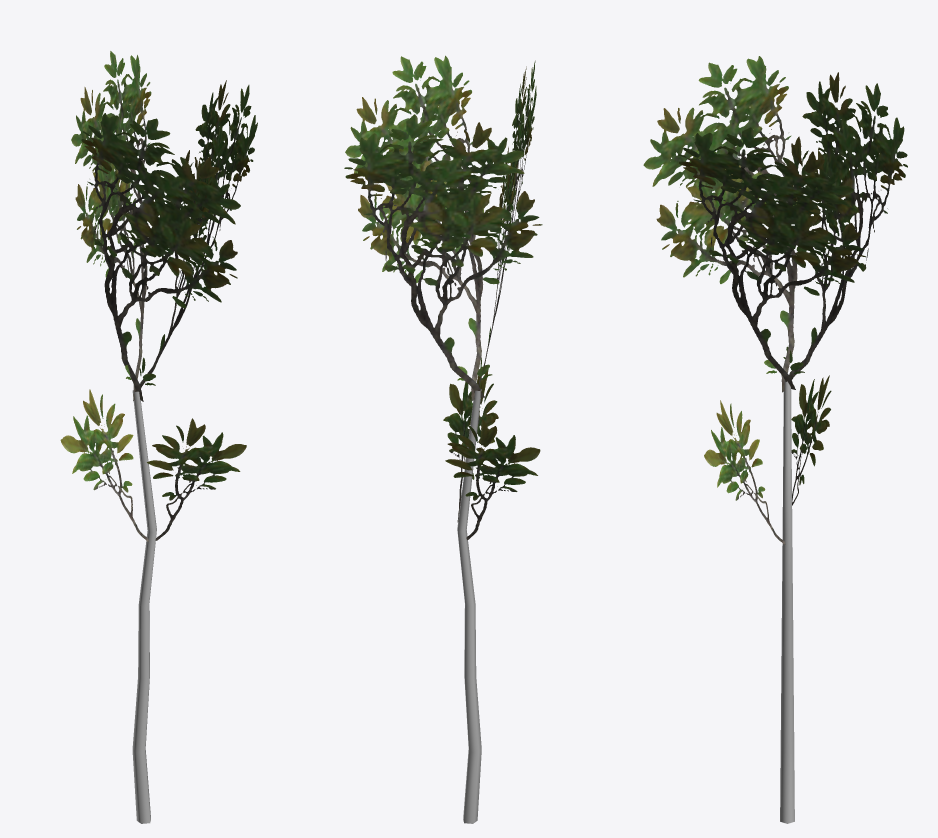
Rendered from tree5.FBX.
3 views of the same model, side by side, from view 1: azimuth 30°, elevation 25°; view 2: azimuth 150°, elevation 25°; view 3: azimuth 270°, elevation 25° (orthographic).
Visible parts, largest first — view 1: tree5; view 2: tree5; view 3: tree5.
Part boxes in pixels (x1,y1,x2,y2): tree5: [60, 51, 257, 823]; tree5: [344, 55, 542, 823]; tree5: [643, 56, 907, 823].
Bounding box in the file's own units: 23.72 × 82.1 × 31.05.
